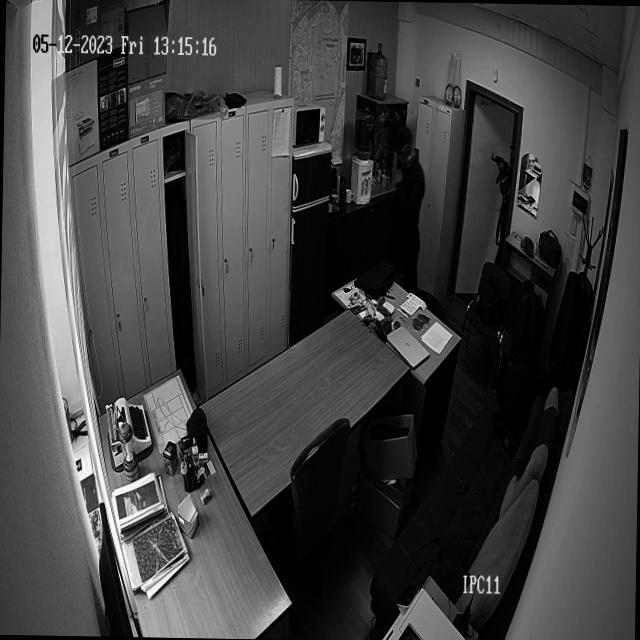gun: (488, 152, 514, 212)
person: (388, 126, 425, 304)
